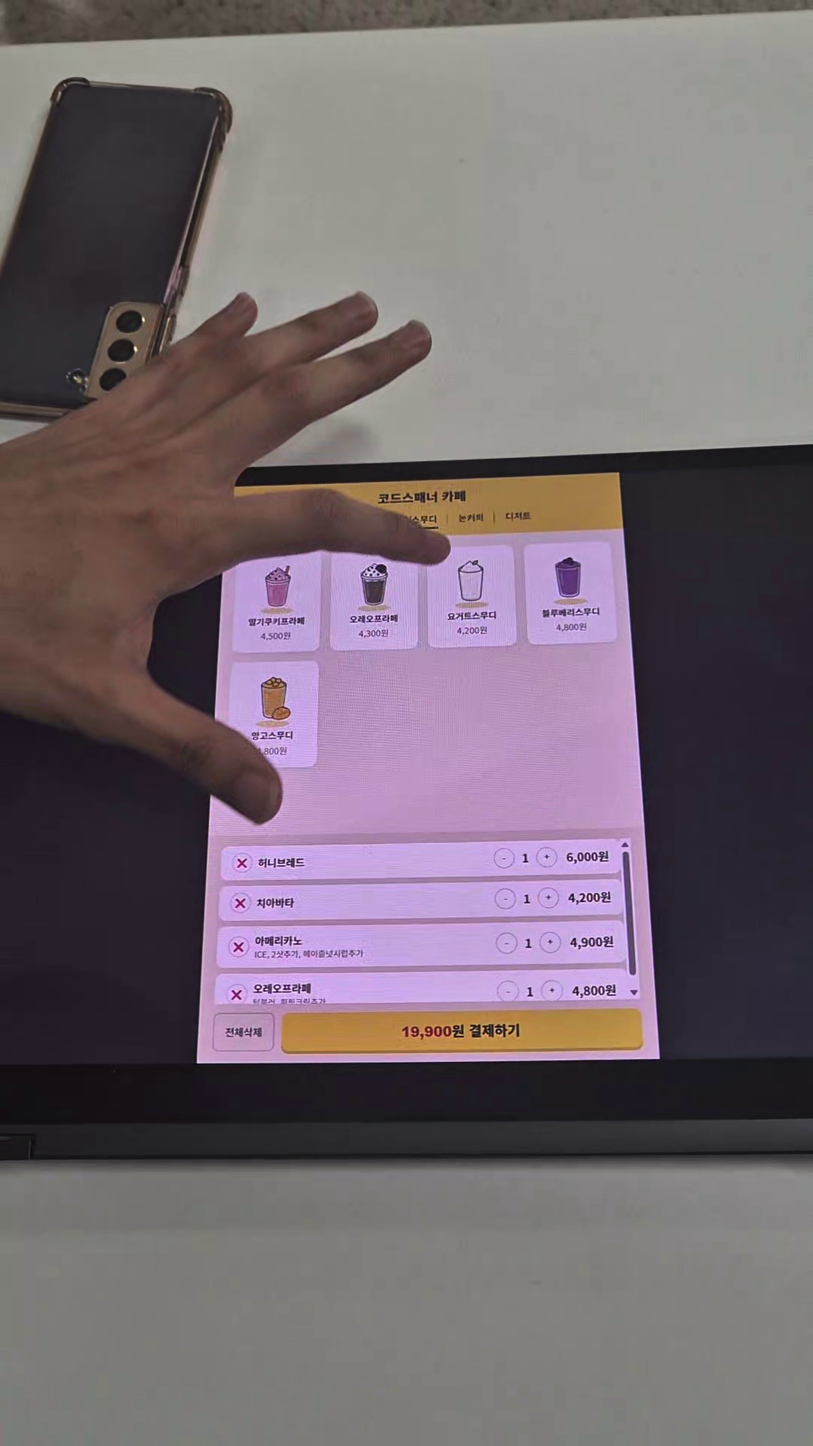action_button: (214, 1013, 272, 1051)
cart_item: (216, 921, 625, 968), (214, 969, 629, 1012), (218, 879, 623, 921), (221, 839, 621, 881)
category_tab: (458, 512, 485, 524), (504, 511, 532, 522)
menu_back: (523, 540, 618, 645), (424, 544, 519, 649), (227, 661, 318, 768), (230, 550, 321, 651), (329, 547, 419, 649)
menu_name: (253, 981, 312, 995), (257, 855, 307, 871), (541, 607, 601, 619), (256, 894, 295, 911), (246, 616, 306, 627), (254, 935, 304, 948), (445, 610, 498, 622), (348, 613, 400, 625), (250, 729, 294, 741)
menu_price: (281, 1009, 642, 1054), (562, 849, 610, 866), (566, 889, 614, 906), (568, 933, 616, 950), (571, 982, 619, 999), (455, 625, 489, 636), (253, 746, 288, 756), (258, 631, 292, 641), (357, 628, 391, 638), (554, 622, 588, 632)
